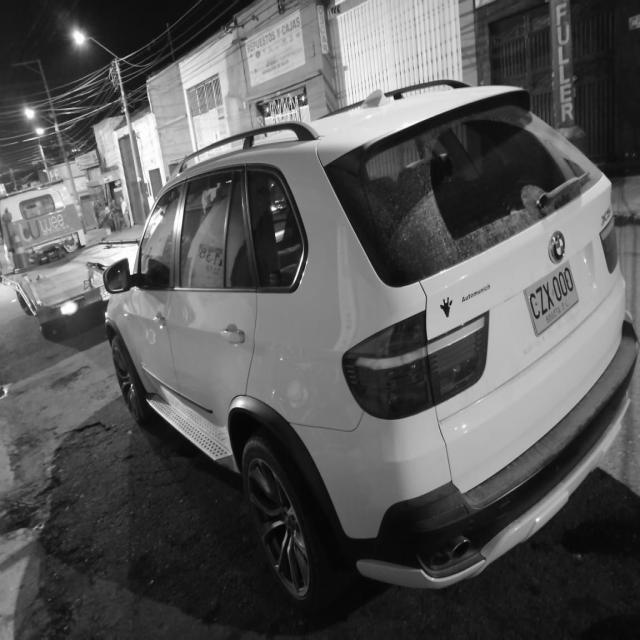plate: (517, 252, 585, 344)
